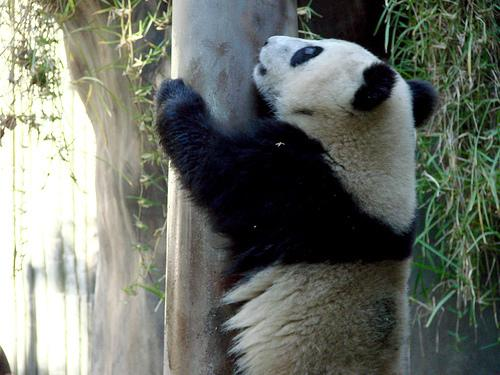panda: (156, 36, 438, 374)
